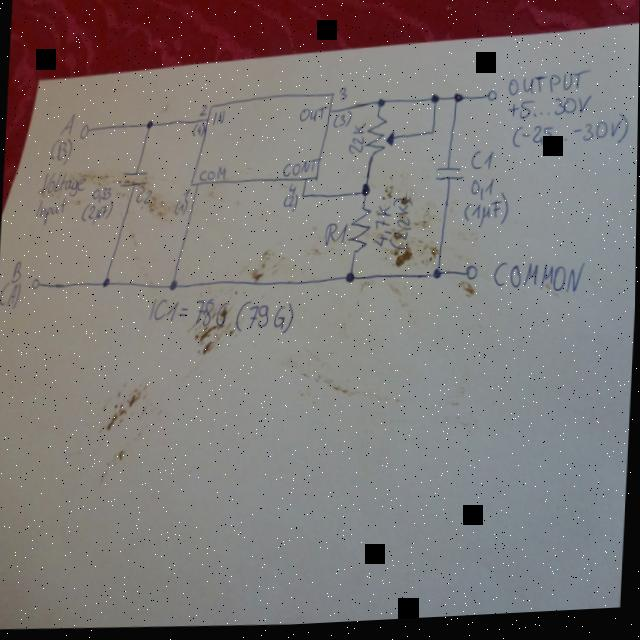capacitor: (118, 168, 147, 190), (433, 166, 463, 186)
junction: (357, 184, 371, 200), (430, 268, 443, 285), (343, 271, 356, 287), (451, 94, 463, 106), (168, 278, 178, 292), (429, 95, 439, 107), (375, 98, 384, 111), (100, 276, 109, 288), (144, 119, 152, 130), (298, 192, 305, 203), (428, 130, 434, 139)
resistor: (362, 113, 397, 164), (345, 206, 371, 256)
terminal: (480, 90, 501, 108), (462, 265, 478, 287), (76, 120, 91, 139), (29, 274, 42, 290)
text: (144, 288, 295, 344), (510, 112, 628, 157), (489, 259, 583, 303), (504, 94, 592, 127), (506, 69, 591, 103), (461, 193, 509, 234), (39, 165, 86, 199), (388, 198, 413, 254), (32, 194, 68, 225), (370, 203, 393, 251), (281, 156, 321, 181), (79, 198, 112, 226), (47, 136, 73, 166), (346, 121, 366, 158), (321, 222, 347, 249), (469, 151, 494, 177), (0, 280, 20, 309), (469, 180, 494, 203), (57, 108, 74, 136), (298, 106, 324, 124), (198, 165, 225, 182), (91, 183, 112, 203), (331, 113, 352, 131), (9, 258, 24, 283), (281, 193, 298, 215), (133, 188, 153, 205), (209, 109, 225, 127), (172, 199, 188, 216), (190, 121, 205, 138), (180, 187, 190, 202), (336, 88, 346, 102), (287, 183, 296, 197), (198, 106, 206, 119)
